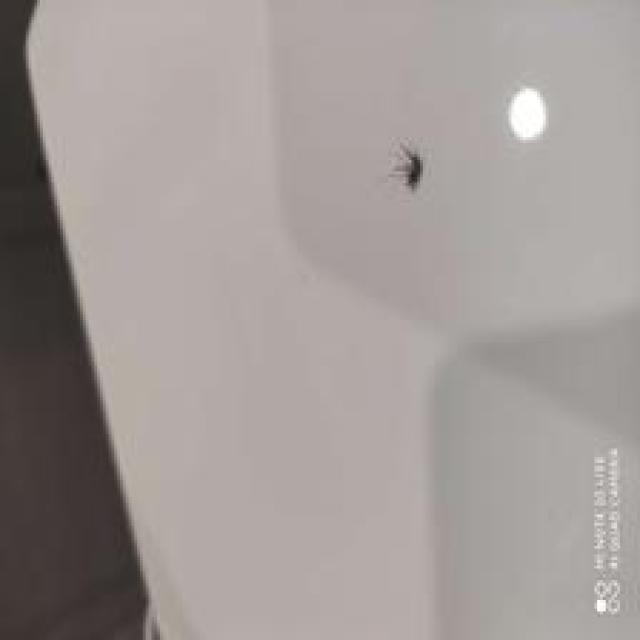Culex: (388, 141, 423, 193)
